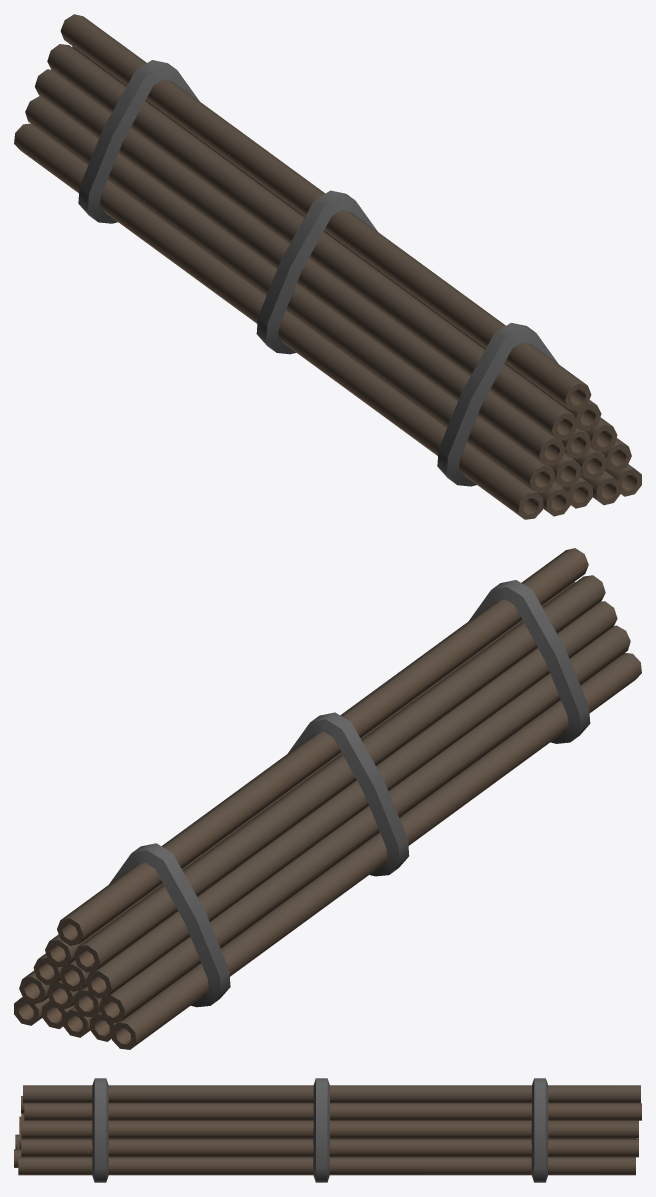
The model's file is Pipes_C_3_2.fbx.
The picture shows the model from 3 angles, top to bottom: view 1: azimuth 30°, elevation 25°; view 2: azimuth 150°, elevation 25°; view 3: azimuth 270°, elevation 25°; orthographic projection. The views are drawn at different scales.
Parts seen in each view (by area): view 1: Pipes_C_3_2; view 2: Pipes_C_3_2; view 3: Pipes_C_3_2.
Boxes of the visible parts, x1=… form: Pipes_C_3_2: x1=14, y1=14, x2=641, y2=519; Pipes_C_3_2: x1=14, y1=548, x2=641, y2=1049; Pipes_C_3_2: x1=14, y1=1078, x2=641, y2=1182.
Size of the model in its own units: 90.26 by 87.4 by 560.
